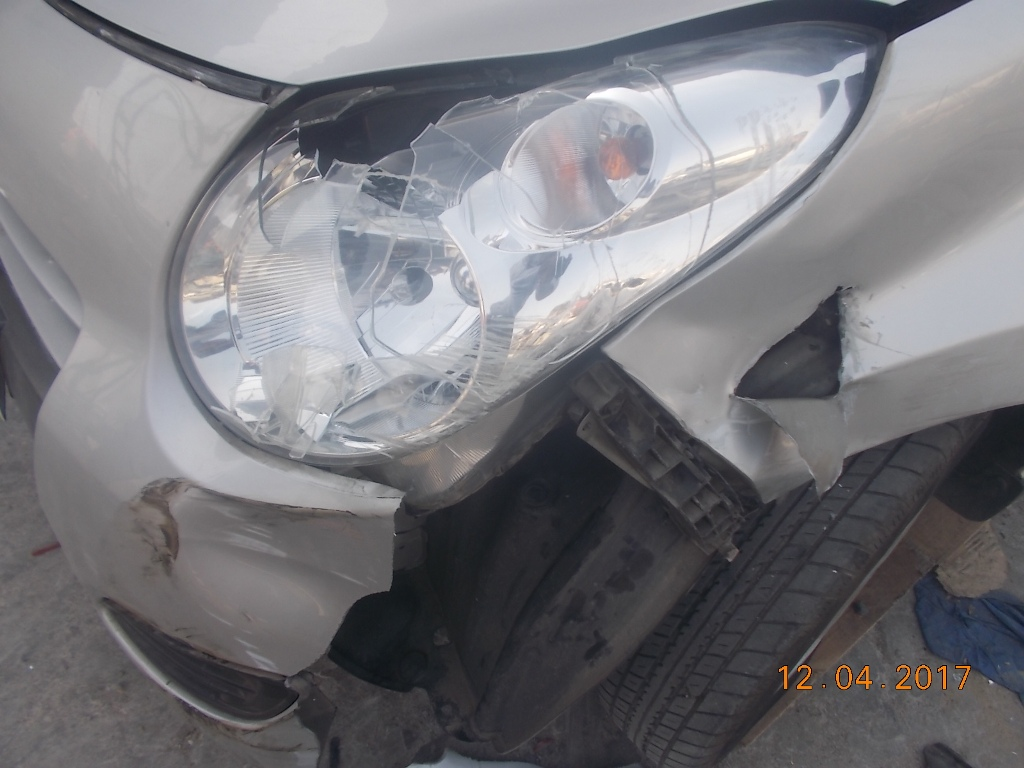Large_tear_or_damage: (159, 250, 908, 712)
